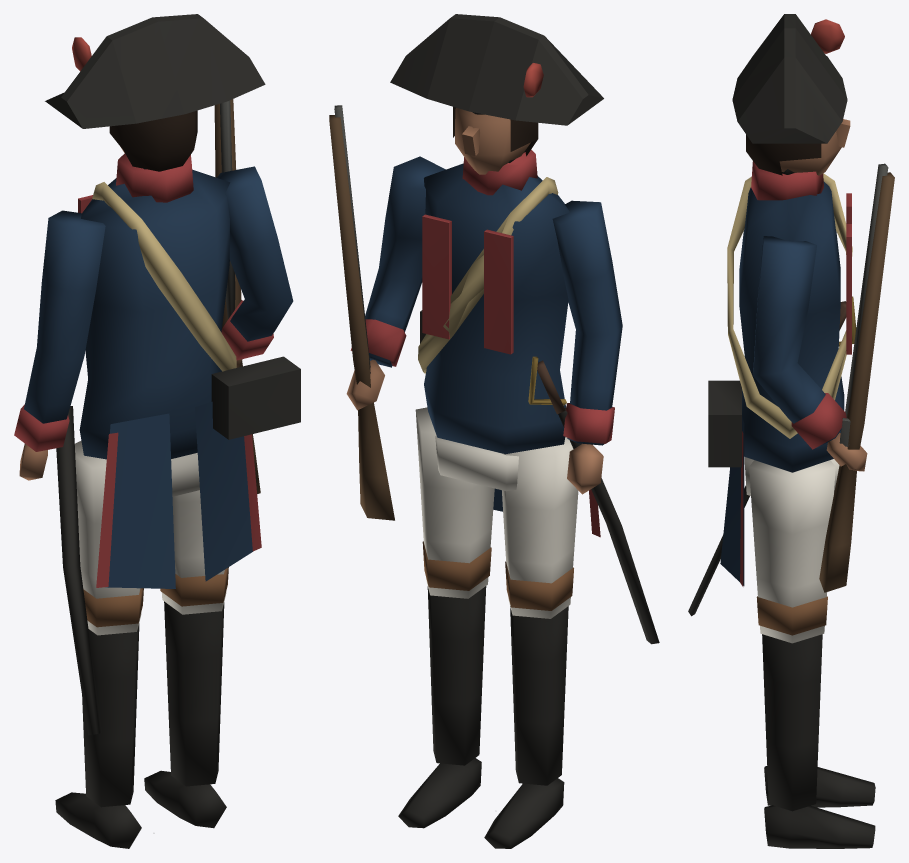
The model's file is persona_voluntario_1806_lod.glb.
The picture shows the model from 3 angles, left to right: view 1: azimuth 30°, elevation 25°; view 2: azimuth 150°, elevation 25°; view 3: azimuth 270°, elevation 25°; orthographic projection. The views are drawn at different scales.
Parts seen in each view (by area): view 1: persona_voluntario_1806_lod; view 2: persona_voluntario_1806_lod; view 3: persona_voluntario_1806_lod.
Part boxes in pixels (x1,y1,x2,y2): persona_voluntario_1806_lod: [14, 14, 300, 848]; persona_voluntario_1806_lod: [329, 14, 659, 848]; persona_voluntario_1806_lod: [688, 14, 894, 848].
Bounding box in the file's own units: 0.5989 × 1.83 × 0.431.
